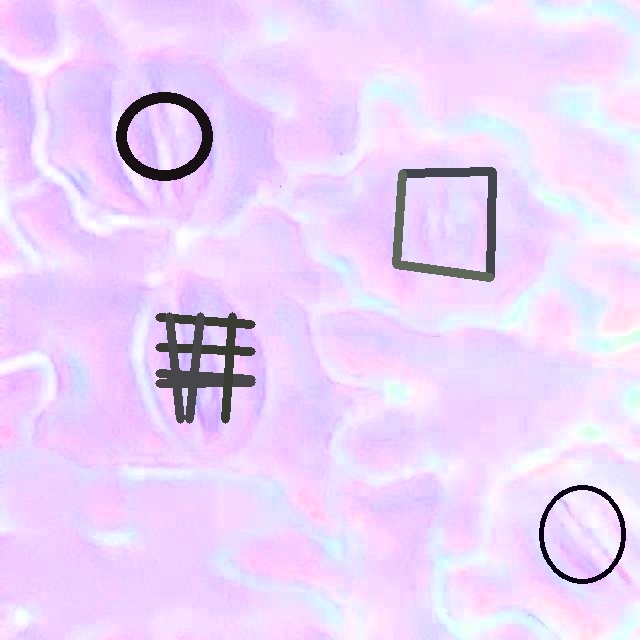open: (392, 169, 496, 281), (155, 312, 255, 423), (537, 485, 626, 583), (115, 93, 213, 180)
